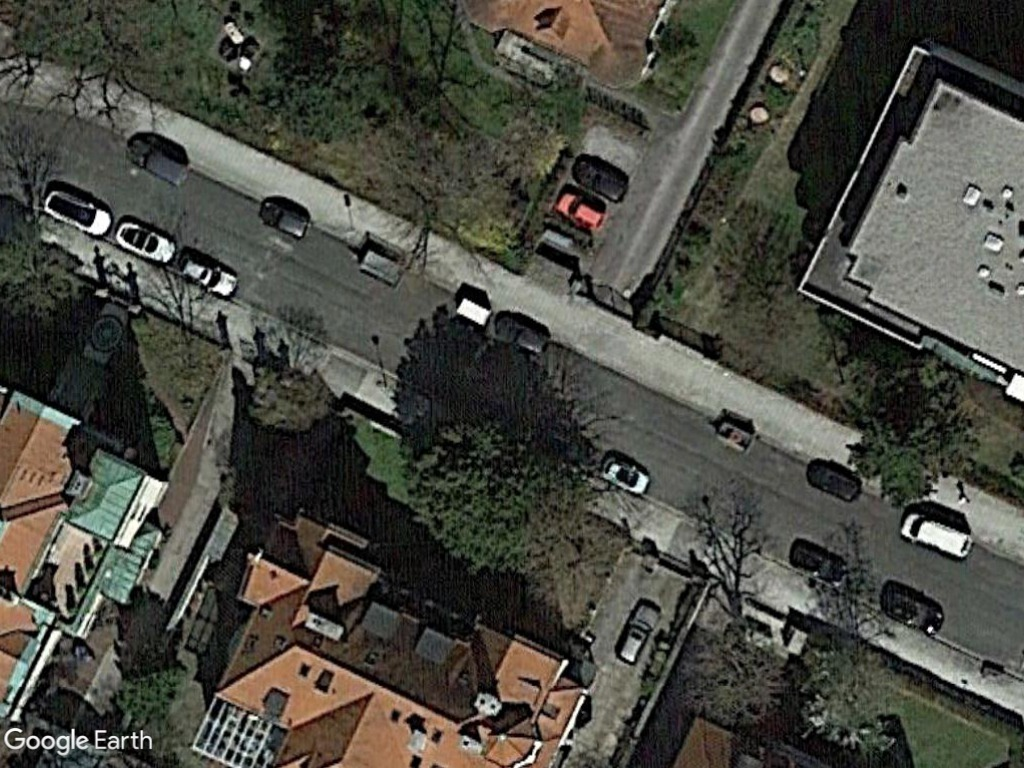car: (895, 509, 975, 561), (41, 186, 112, 236), (613, 602, 661, 670), (113, 215, 176, 266), (178, 252, 243, 300), (549, 189, 609, 233)
